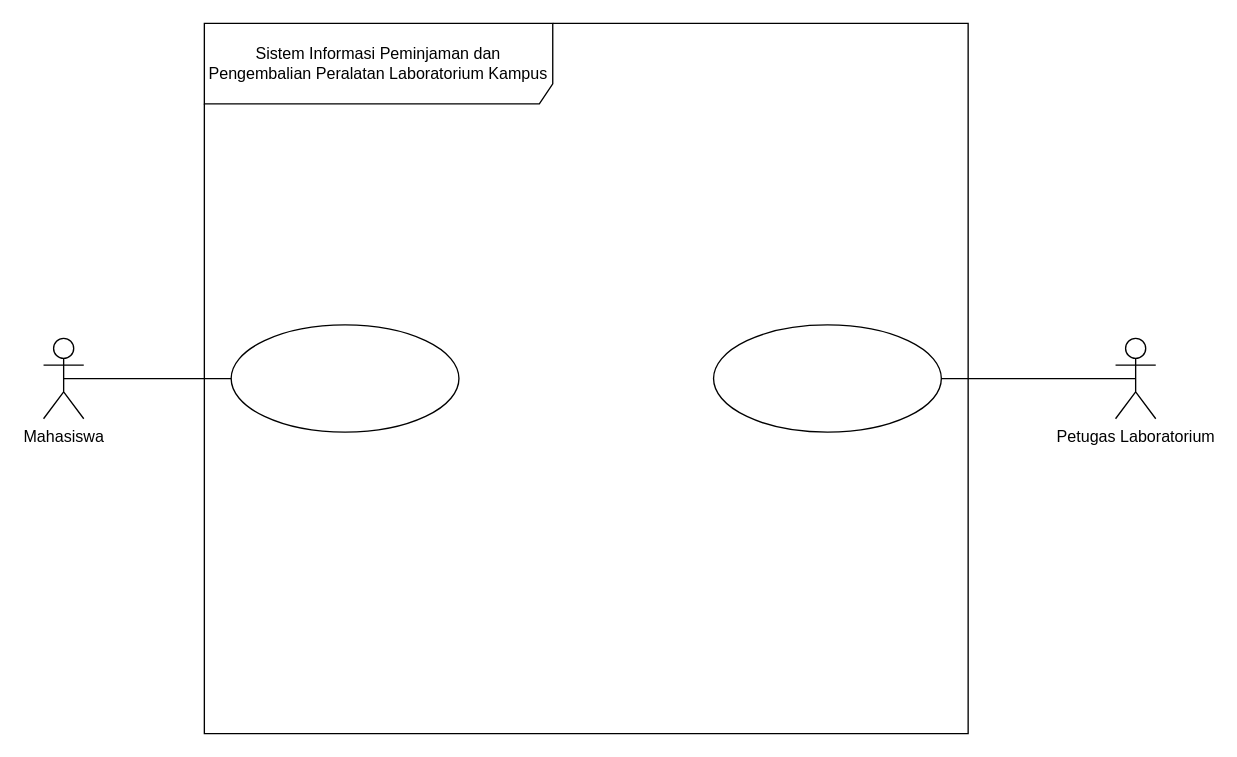
Image size: 1237x757. Some labels were removed from this diagram. Each missing label, with the centre of its shape:
Kelola data peralatan: [826,378]
Lihat ketersediaan Peralatan: [344,378]
